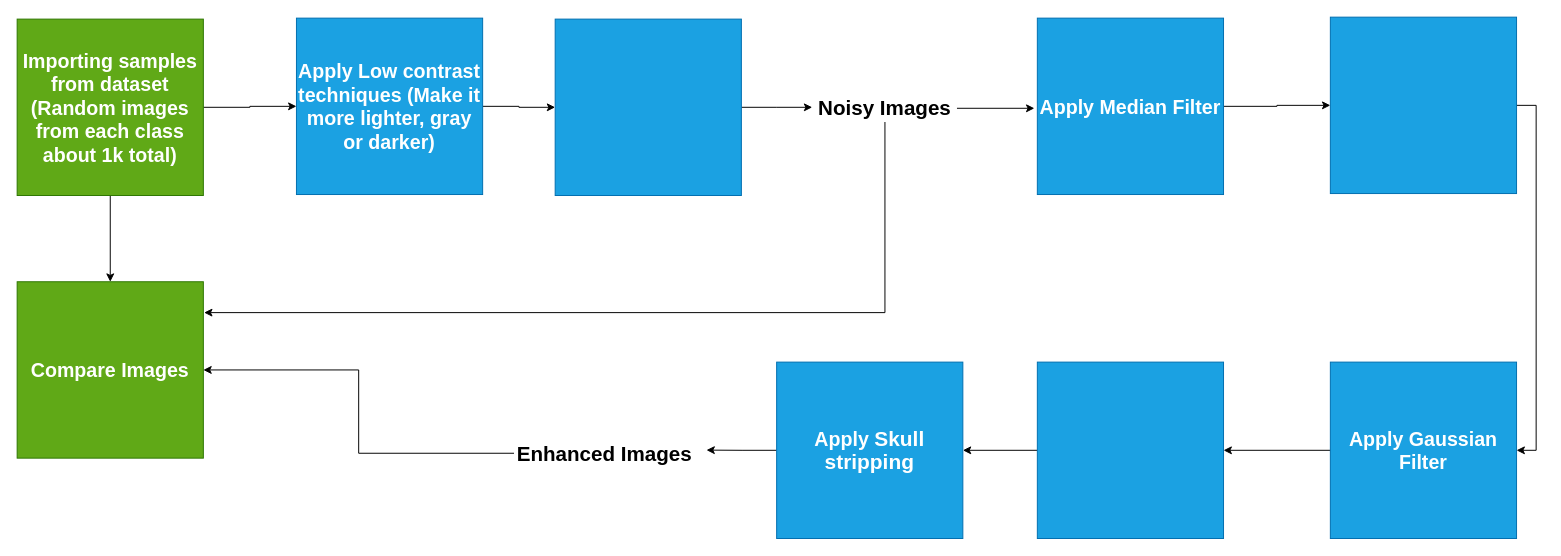
The diagram is 1561 pixels wide and 556 high, and some of its shapes have lost their labels. Each missing label, with the centre of its shape:
"Adding random noises" belongs at pixel 647 107.
"Apply Bilateral Filter" belongs at pixel 1423 105.
"Apply Histogram equalization" belongs at pixel 1130 450.
